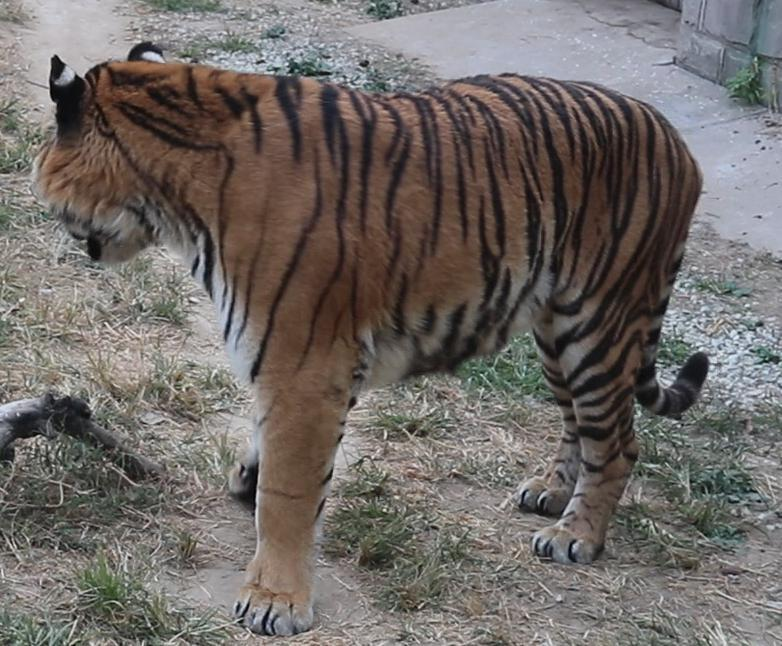tiger: (33, 41, 707, 635)
